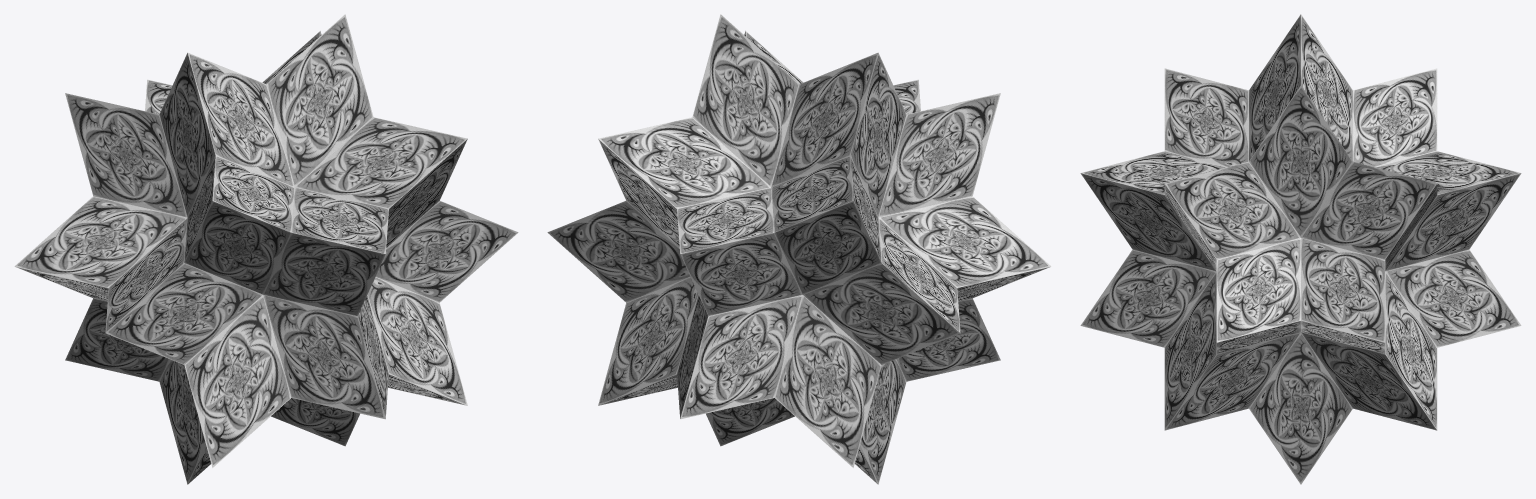
Rendered from RhombicHexecontahedron8.obj.
3 views of the same model, side by side, from view 1: azimuth 30°, elevation 25°; view 2: azimuth 150°, elevation 25°; view 3: azimuth 270°, elevation 25° (orthographic). The views are drawn at different scales.
Size of the model in its own units: 4.45 by 4.45 by 4.45.
1 material, 1 textured.
